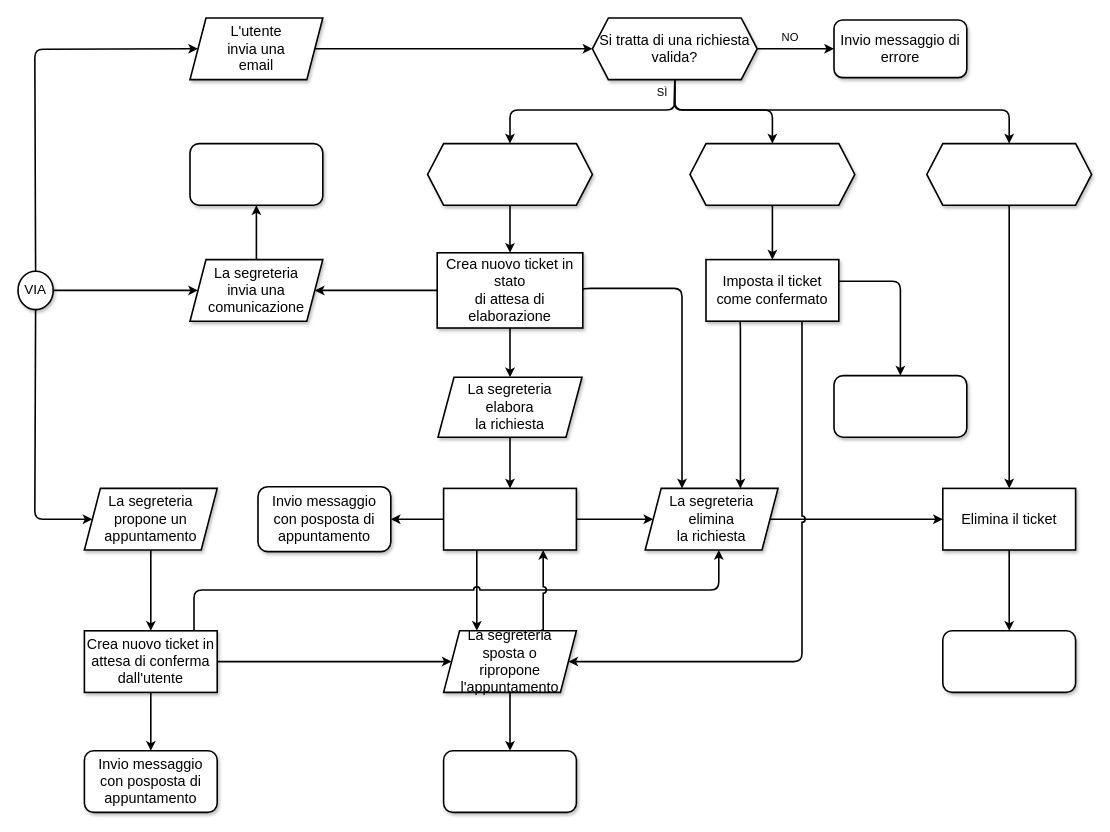
This 1110x832 diagram has some shape labels left out. The shapes that lost their labels are listed below. From the top down, each one's centre as x and y in pixels, then its label:
At point 257,175: "Invio messaggio di comunicazione".
At point 510,175: "È una comunicazione?".
At point 773,175: "È una conferma?".
At point 1009,175: "È un annullamento?".
At point 901,407: "Invio messaggio di conferma appuntamento".
At point 510,520: "Imposta il ticket in stato di attesa di conferma dall'utente".
At point 1009,662: "Invio messaggio di notifica di eliminazione".
At point 510,782: "Invio messaggio di notifica spostamento".
